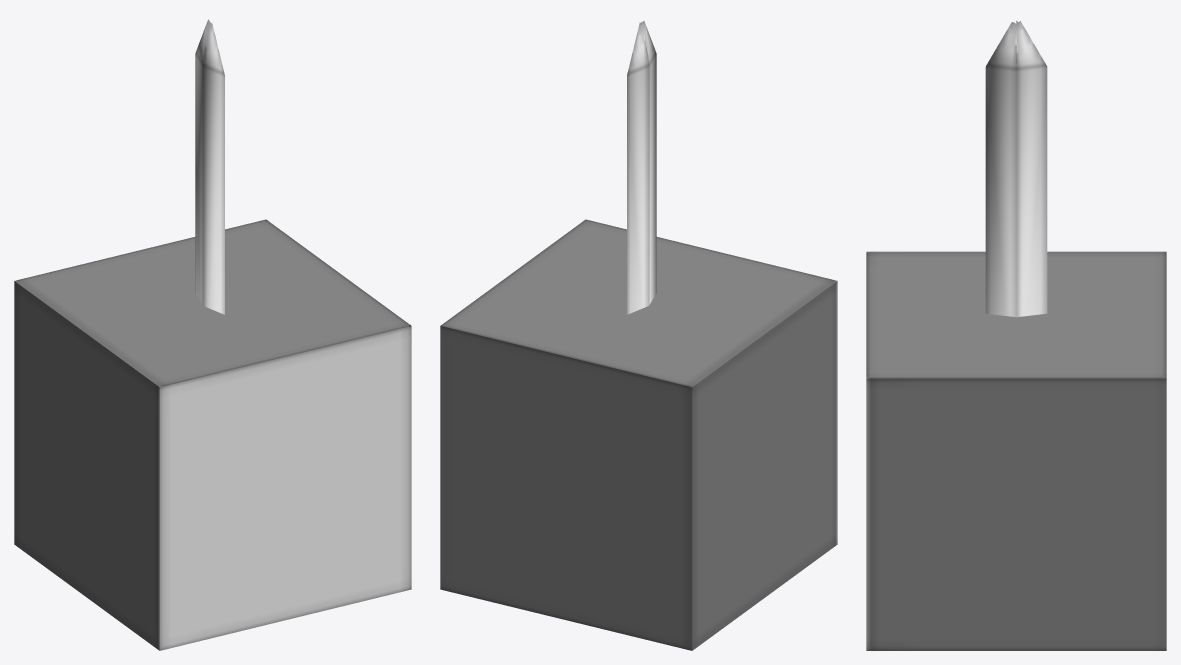
The model's file is Player.obj.
3 views of the same model, side by side, from view 1: azimuth 30°, elevation 25°; view 2: azimuth 150°, elevation 25°; view 3: azimuth 270°, elevation 25° (orthographic). The views are drawn at different scales.
Parts seen in each view (by area): view 1: body, sword; view 2: body, sword; view 3: body, sword.
Part boxes in pixels (box(x1,y1,x2,y2)): body: box(14, 219, 411, 650); sword: box(195, 19, 224, 314); body: box(440, 219, 837, 650); sword: box(627, 20, 656, 314); body: box(866, 251, 1166, 650); sword: box(985, 20, 1047, 317).
Size of the model in its own units: 1.5 by 3.15 by 1.5.
